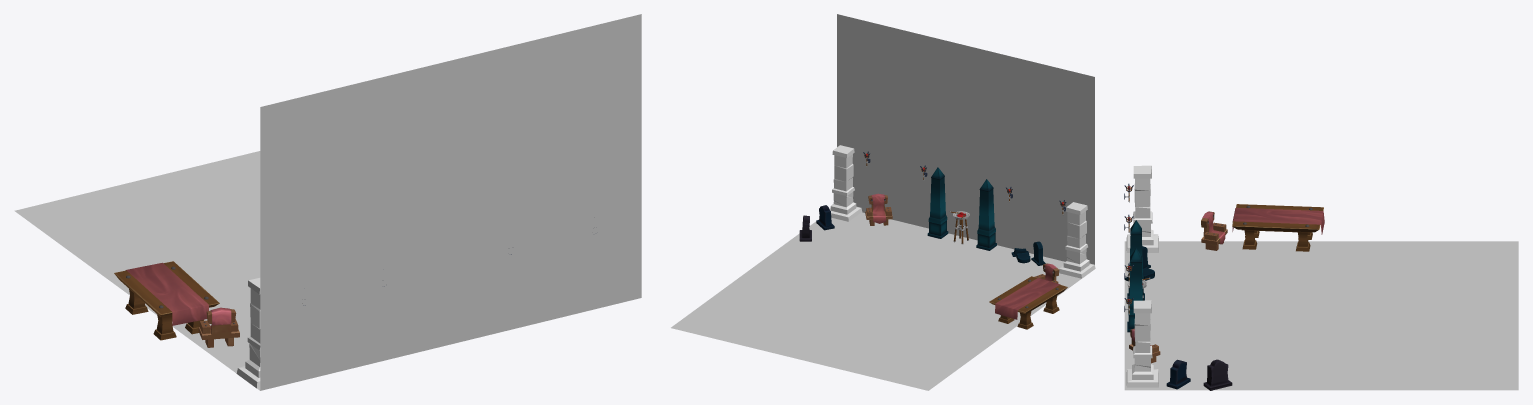
The model's file is new_combat scene.FBX.
3 renders of one model, left to right at view 1: azimuth 30°, elevation 25°; view 2: azimuth 150°, elevation 25°; view 3: azimuth 270°, elevation 25°, orthographic. The views are drawn at different scales.
Parts seen in each view (by area): view 1: Plane041, Plane001, Table, pillar004, WoodenChair001; view 2: Plane041, Plane001, Table, pillar004, pillar02, pillar003, pillar01, WoodenChair; view 3: Plane001, Table, pillar02, pillar004, pillar01, WoodenChair001, gravestone04, gravestone03, pillar003.
Boxes of the visible parts, bbox=[...] form: Plane041: bbox=[260, 14, 641, 390]; Plane001: bbox=[14, 151, 260, 390]; Table: bbox=[114, 261, 219, 340]; pillar004: bbox=[236, 278, 260, 388]; WoodenChair001: bbox=[198, 307, 239, 347]; Plane041: bbox=[837, 14, 1094, 264]; Plane001: bbox=[671, 212, 1081, 390]; Table: bbox=[989, 276, 1067, 329]; pillar004: bbox=[1059, 202, 1095, 278]; pillar02: bbox=[829, 145, 862, 221]; pillar003: bbox=[976, 179, 996, 250]; pillar01: bbox=[927, 167, 948, 238]; WoodenChair: bbox=[865, 193, 892, 225]; Plane001: bbox=[1124, 241, 1518, 390]; Table: bbox=[1232, 204, 1324, 251]; pillar02: bbox=[1126, 300, 1158, 387]; pillar004: bbox=[1126, 165, 1158, 252]; pillar01: bbox=[1127, 248, 1142, 332]; WoodenChair001: bbox=[1201, 211, 1227, 250]; gravestone04: bbox=[1203, 359, 1232, 390]; gravestone03: bbox=[1166, 359, 1190, 389]; pillar003: bbox=[1127, 220, 1144, 302].
Bounding box in the file's own units: 235 × 155 × 243.
